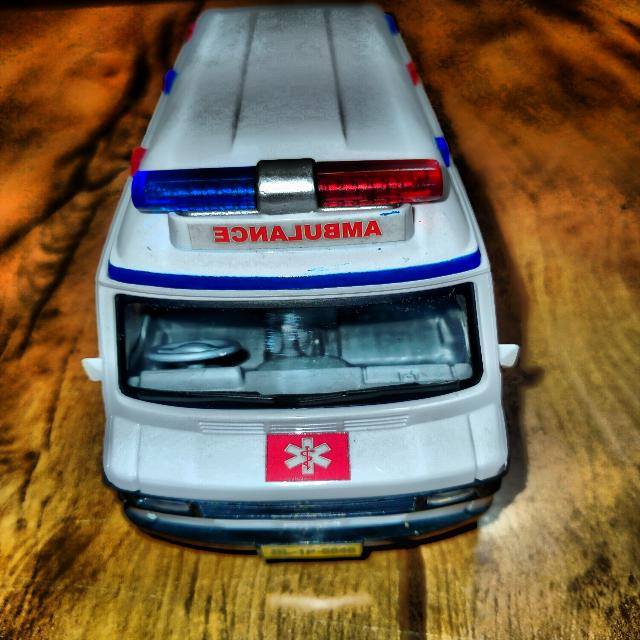Ambulance: (84, 5, 518, 562)
